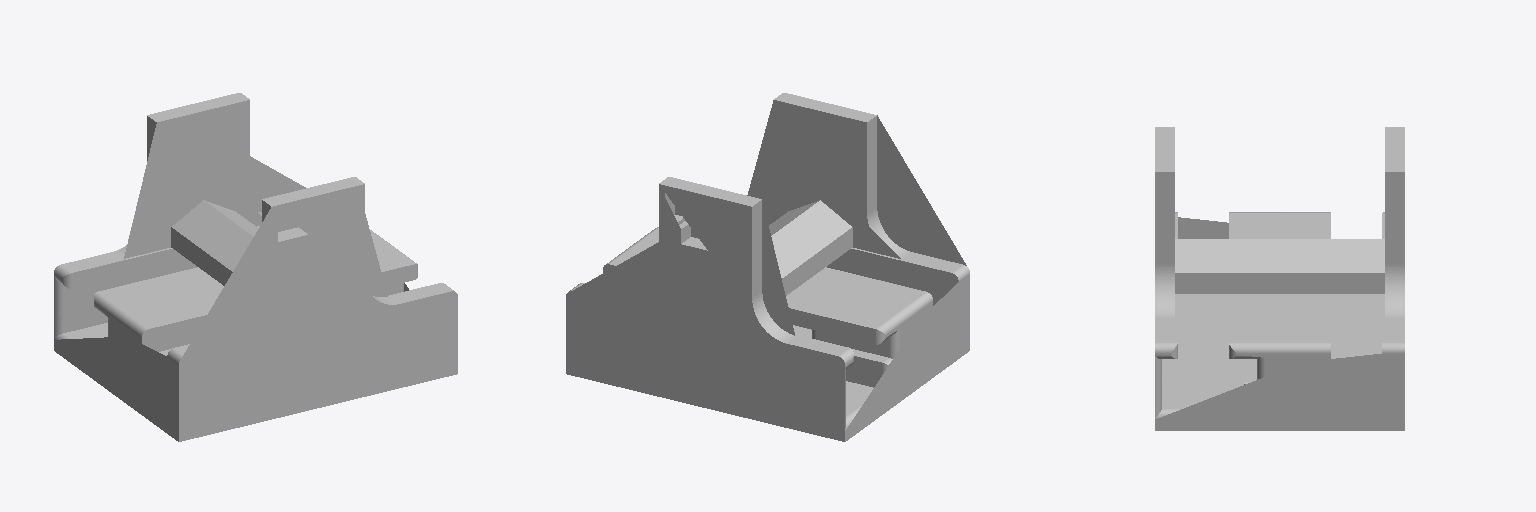
The model's file is Prints_base.obj.
3 views of the same model, side by side, from view 1: azimuth 30°, elevation 25°; view 2: azimuth 150°, elevation 25°; view 3: azimuth 270°, elevation 25° (orthographic).
Visible parts, largest first — view 1: base; view 2: base; view 3: base.
Boxes of the visible parts, x1=… form: base: x1=54, y1=93, x2=457, y2=441; base: x1=566, y1=93, x2=969, y2=441; base: x1=1155, y1=127, x2=1404, y2=430.
Size of the model in its own units: 0.052 by 0.0379 by 0.0403.